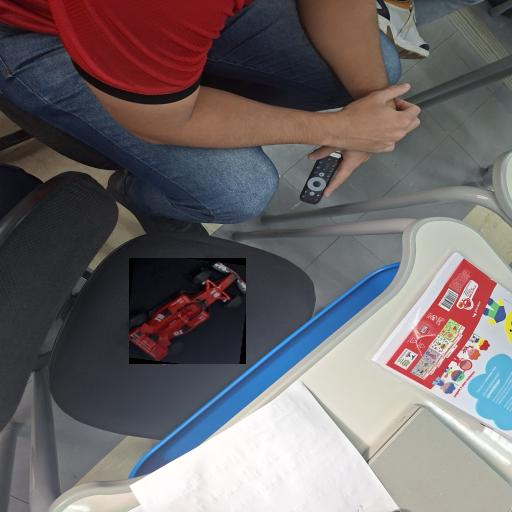carro: (128, 259, 245, 364)
